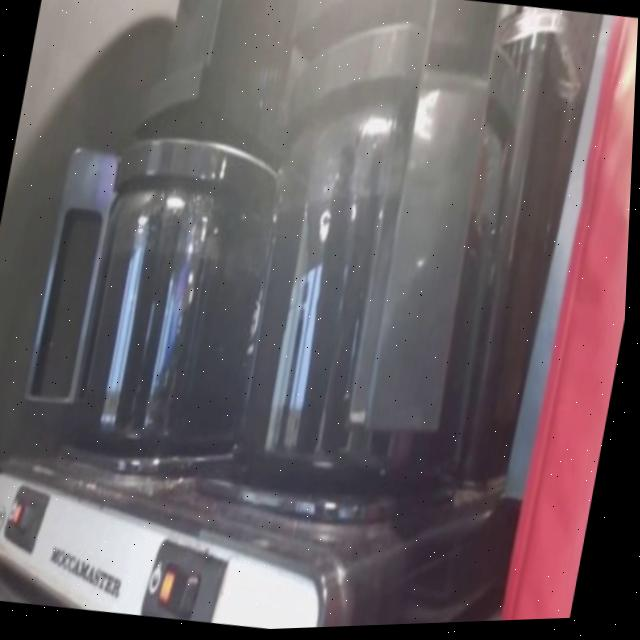coffee: (234, 123, 512, 502), (73, 198, 284, 462)
